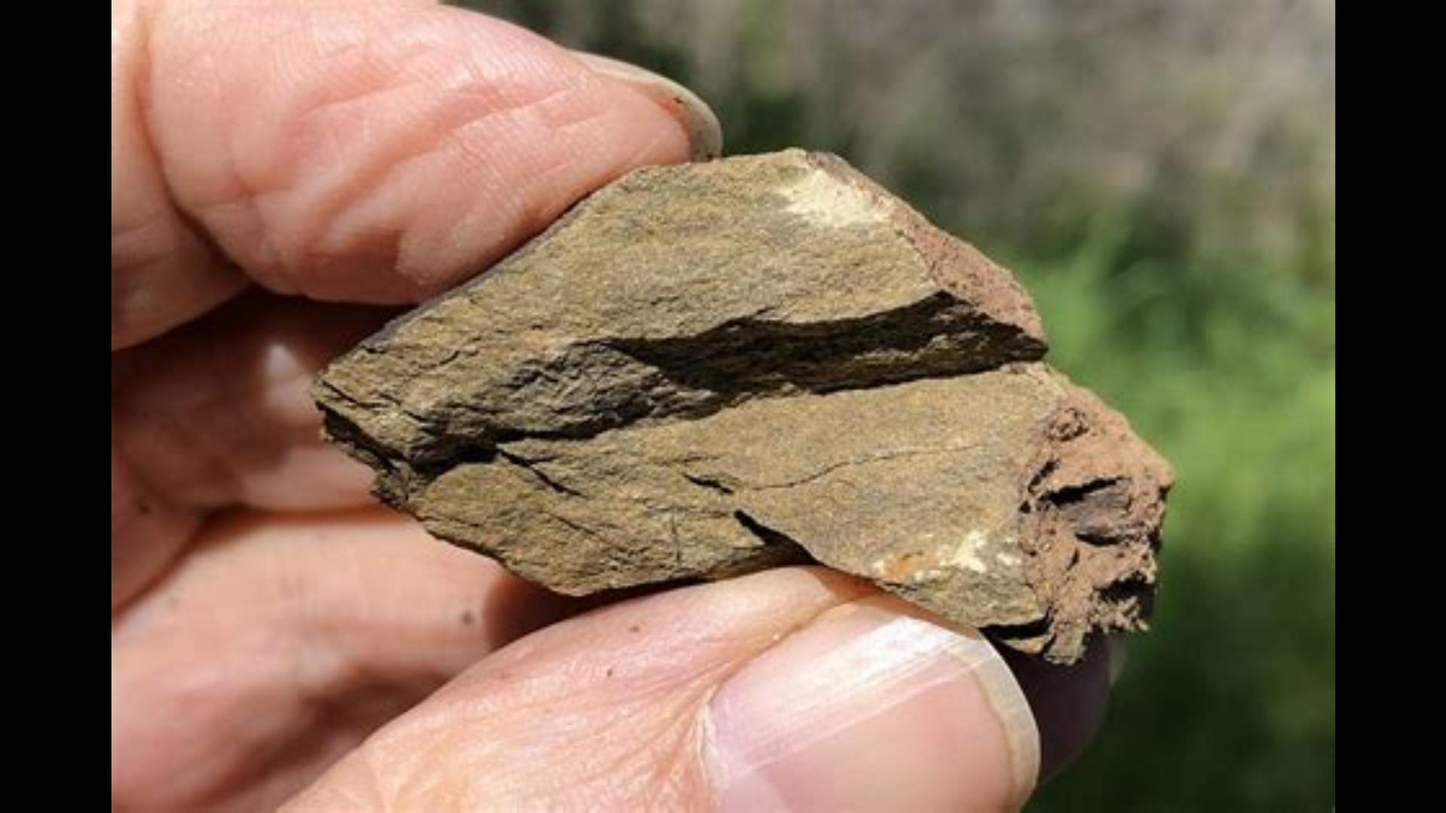rock: (317, 155, 1169, 658)
